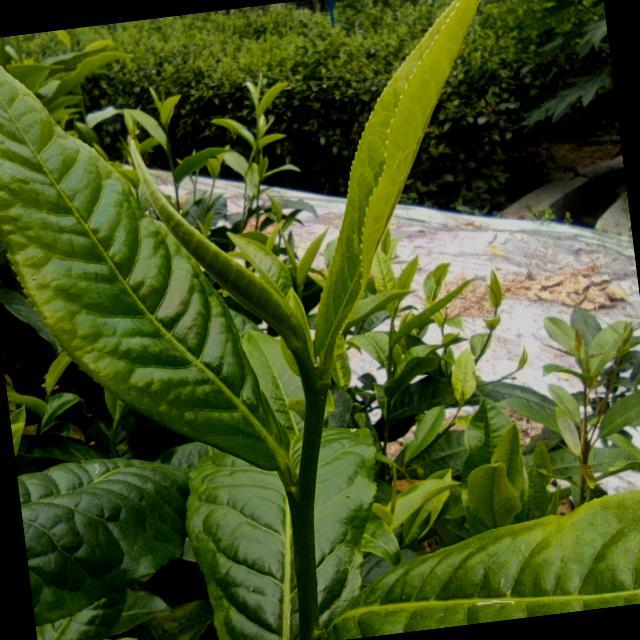Stem: (305, 379, 328, 402)
